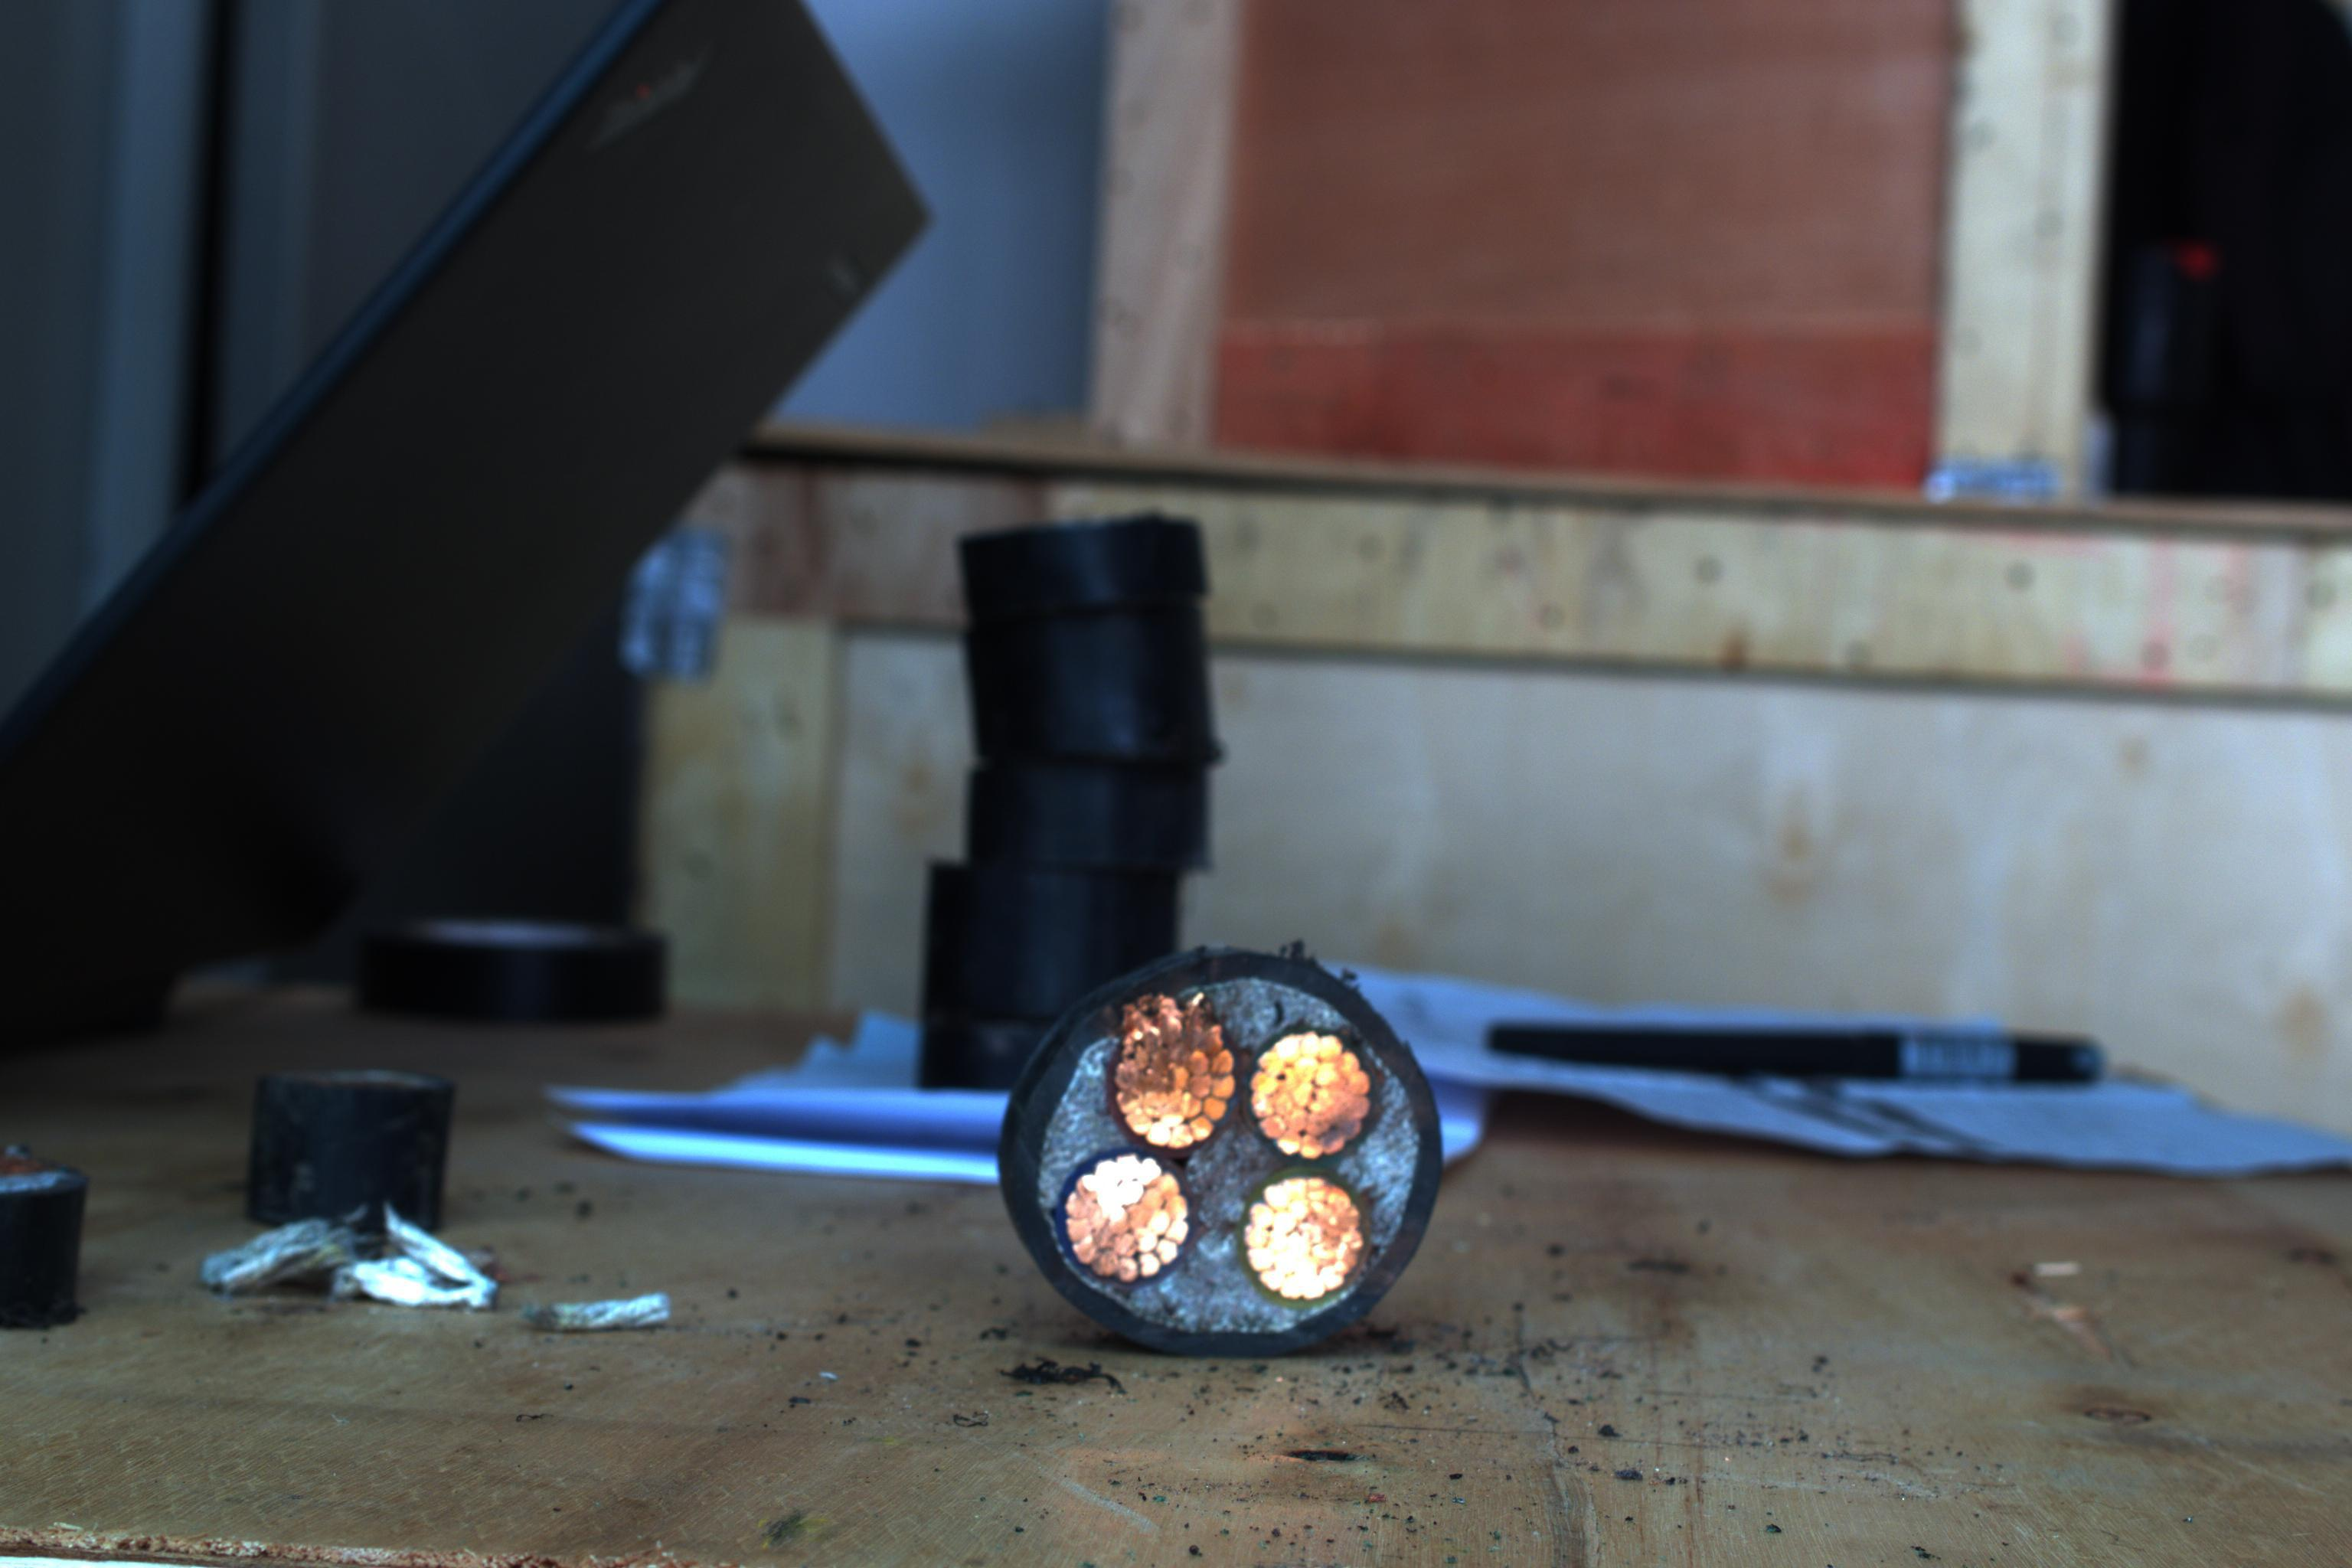YJV_0.6_1kV_4x120: (1020, 947, 1431, 1339)
